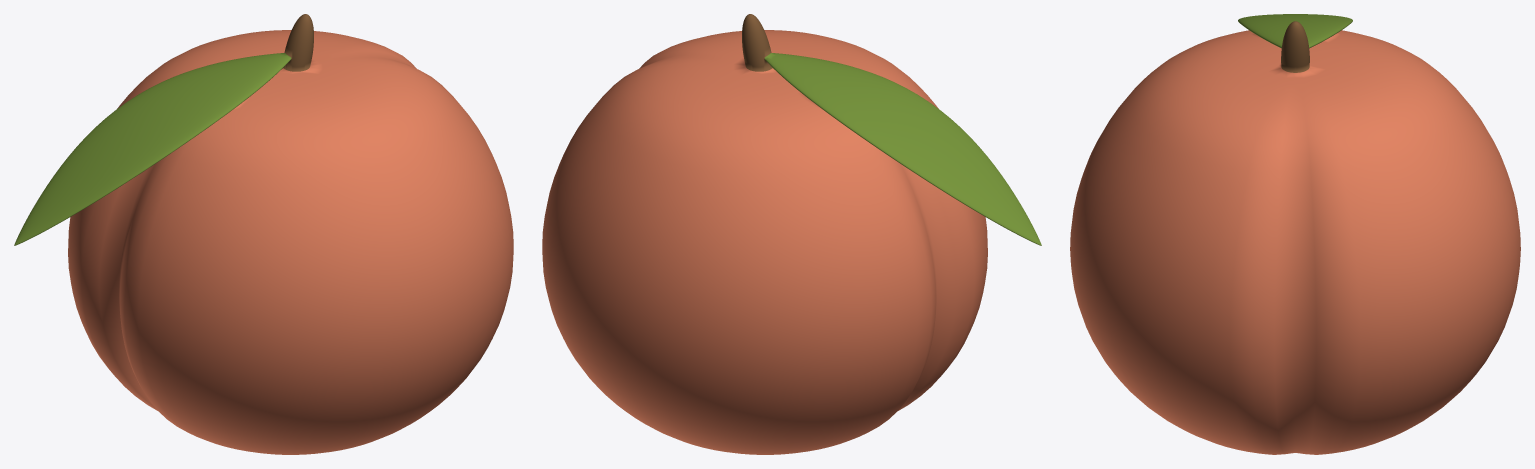
3 views of the same model, side by side, from view 1: azimuth 30°, elevation 25°; view 2: azimuth 150°, elevation 25°; view 3: azimuth 270°, elevation 25° (orthographic).
Visible parts, largest first — view 1: NEW301_Peach_LOD0; view 2: NEW301_Peach_LOD0; view 3: NEW301_Peach_LOD0.
Boxes of the visible parts, x1,y1,x2,y2 form: NEW301_Peach_LOD0: (14,14,513,454); NEW301_Peach_LOD0: (542,14,1041,454); NEW301_Peach_LOD0: (1070,14,1520,454).
Bounding box in the file's own units: 0.094 × 0.0785 × 0.0782.
